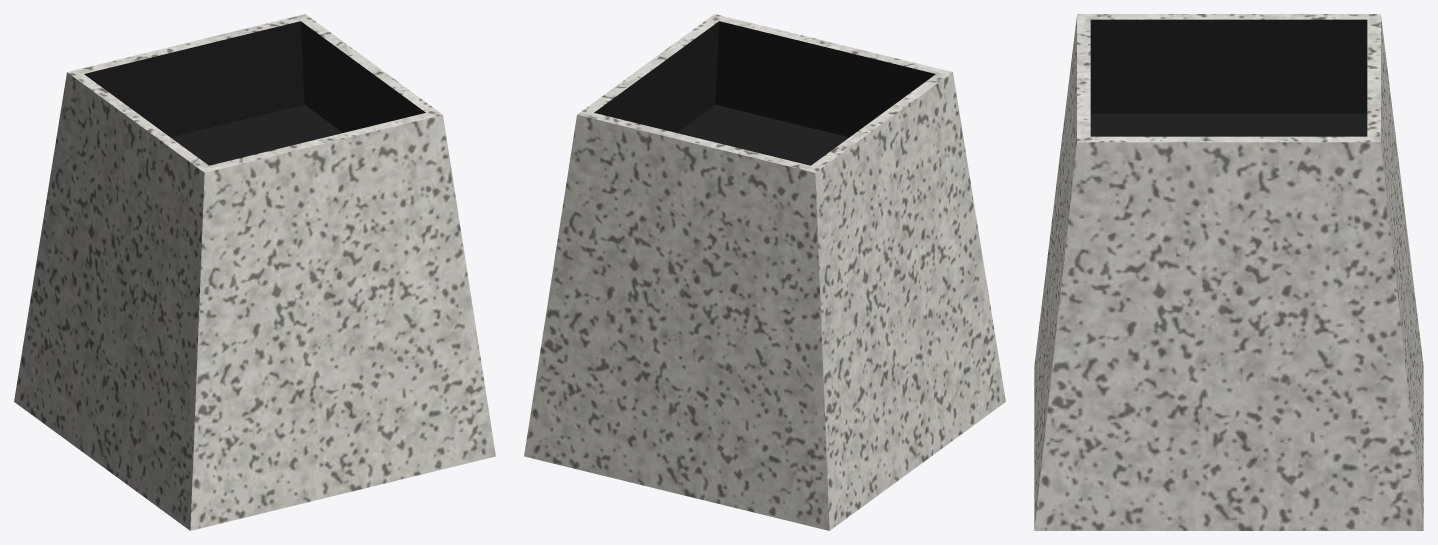
File: white_pawn.glb
3 views of the same model, side by side, from view 1: azimuth 30°, elevation 25°; view 2: azimuth 150°, elevation 25°; view 3: azimuth 270°, elevation 25° (orthographic). The views are drawn at different scales.
Visible parts, largest first — view 1: White_Pawn; view 2: White_Pawn; view 3: White_Pawn.
Boxes of the visible parts, left/top/right/bottom form: White_Pawn: left=14, top=14, right=495, bottom=530; White_Pawn: left=524, top=14, right=1005, bottom=530; White_Pawn: left=1034, top=14, right=1423, bottom=530.
Bounding box in the file's own units: 0.034 × 0.0357 × 0.034.
2 materials, 1 textured.
